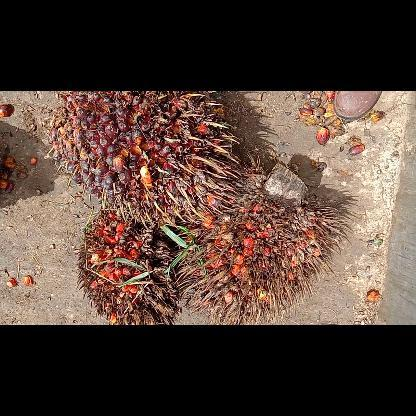TBS masak: (48, 91, 244, 231)
Terlalu masak: (173, 160, 345, 324), (74, 208, 180, 324)
